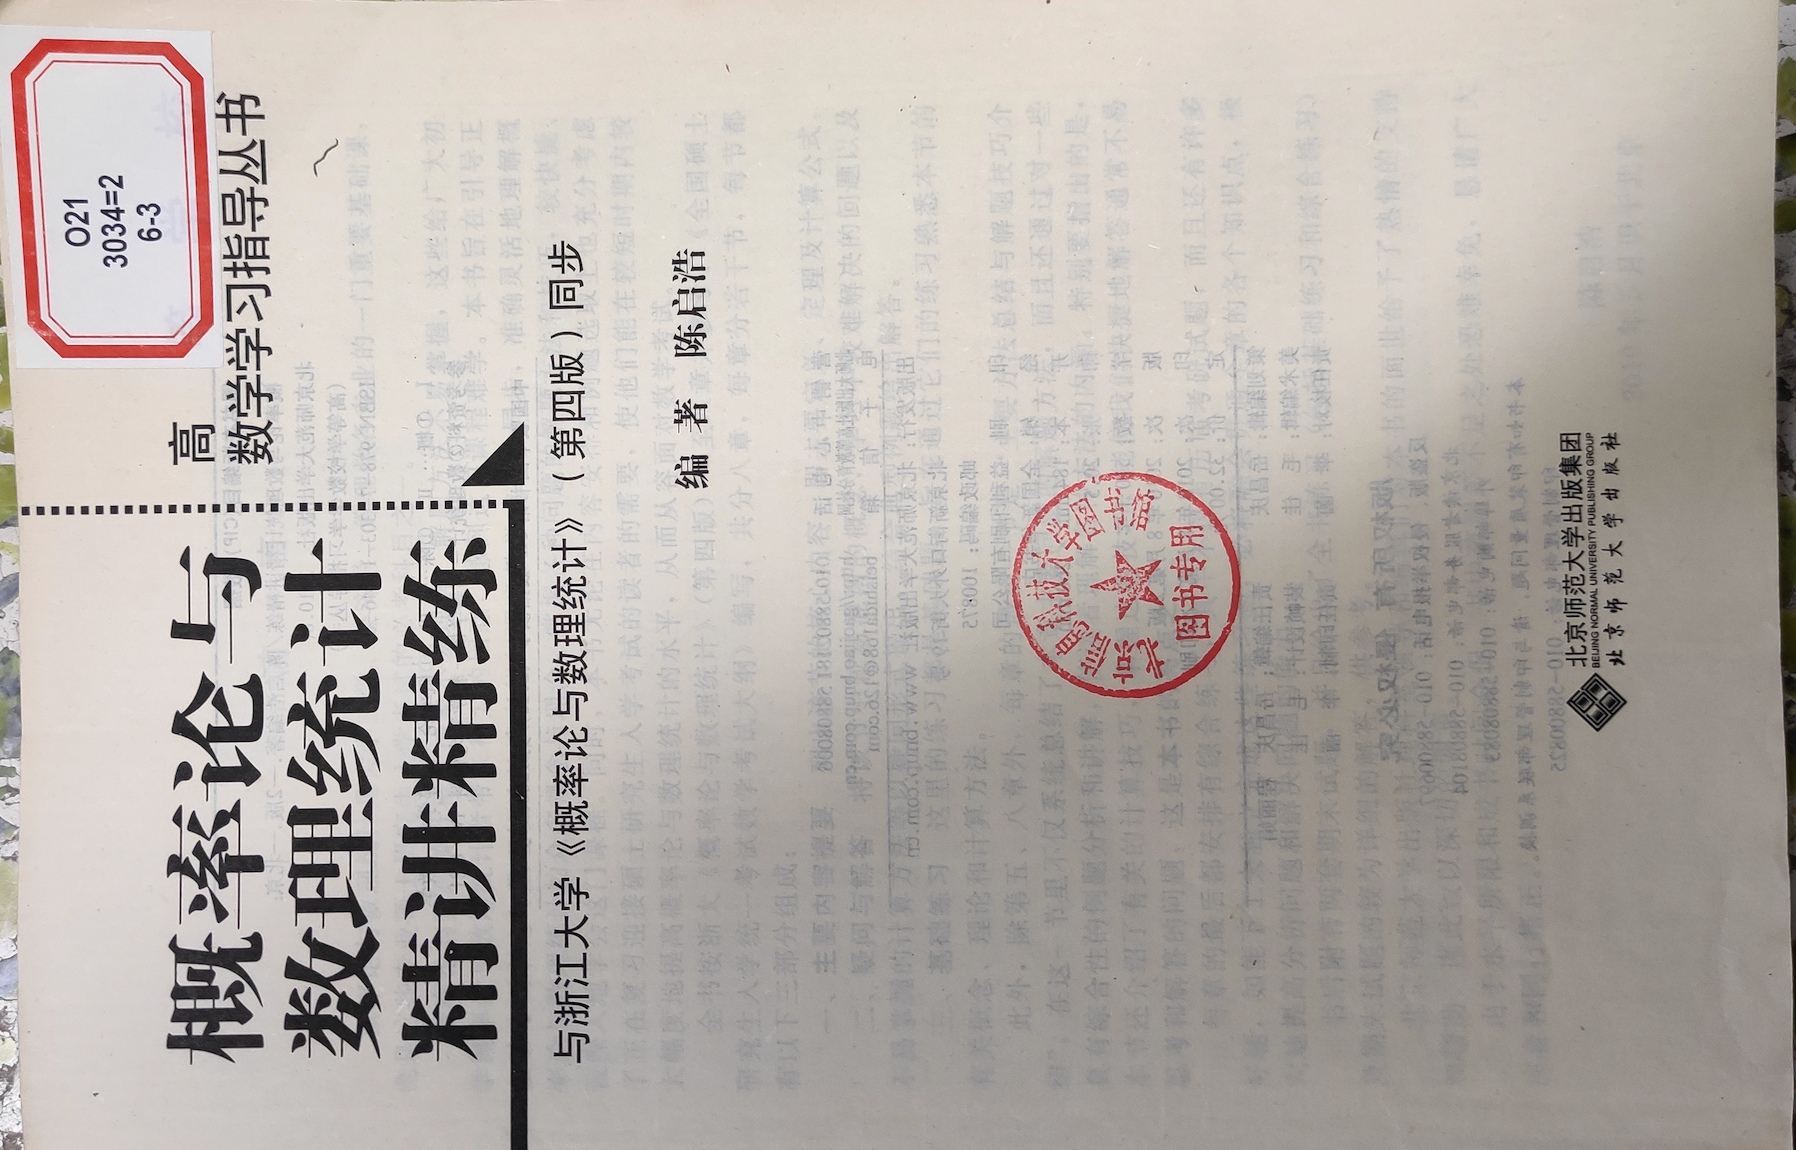Text_area: (1, 31, 727, 1149), (1495, 373, 1674, 752), (1005, 468, 1274, 712)
